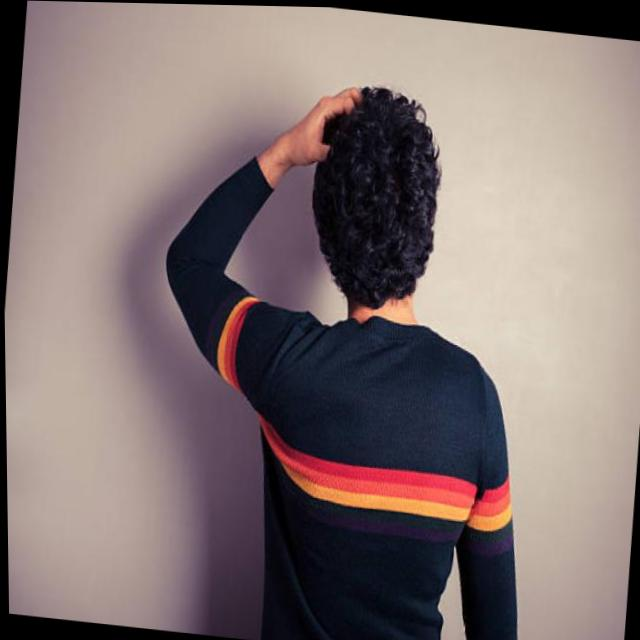no helmet: (294, 76, 455, 316)
